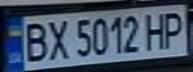0: (90, 15, 109, 56)
1: (106, 13, 127, 55)
2: (121, 11, 145, 53)
5: (72, 16, 93, 58)
B: (18, 19, 51, 63)
H: (142, 9, 172, 51)
P: (157, 8, 190, 50)
X: (42, 17, 72, 61)
